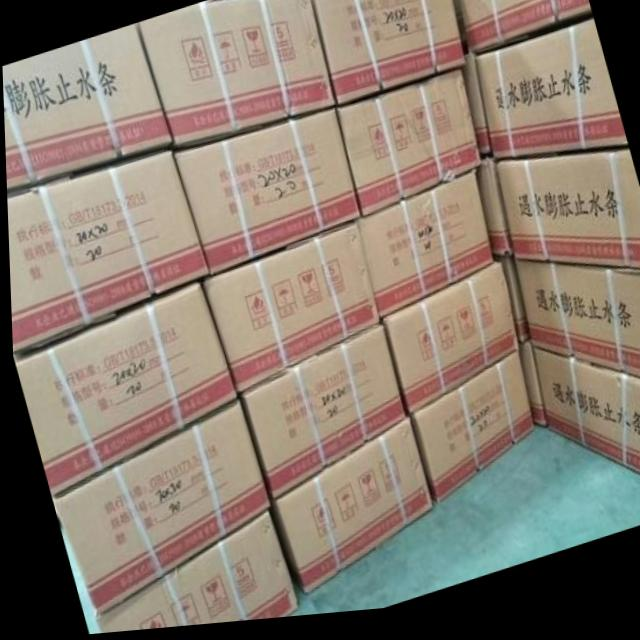box: (10, 284, 237, 497), (48, 401, 266, 617), (6, 144, 208, 351), (172, 109, 360, 279), (199, 224, 378, 400), (234, 328, 403, 510), (136, 0, 335, 150), (262, 422, 430, 598), (2, 25, 169, 190), (91, 512, 295, 634), (472, 19, 626, 168), (335, 72, 482, 225), (377, 270, 516, 422), (354, 178, 492, 323), (405, 357, 531, 510), (492, 159, 640, 280), (310, 0, 465, 110), (512, 267, 640, 388), (528, 352, 640, 485), (458, 0, 589, 60), (473, 168, 511, 266), (459, 59, 491, 169), (490, 260, 527, 353), (514, 346, 544, 438), (452, 0, 469, 62)
